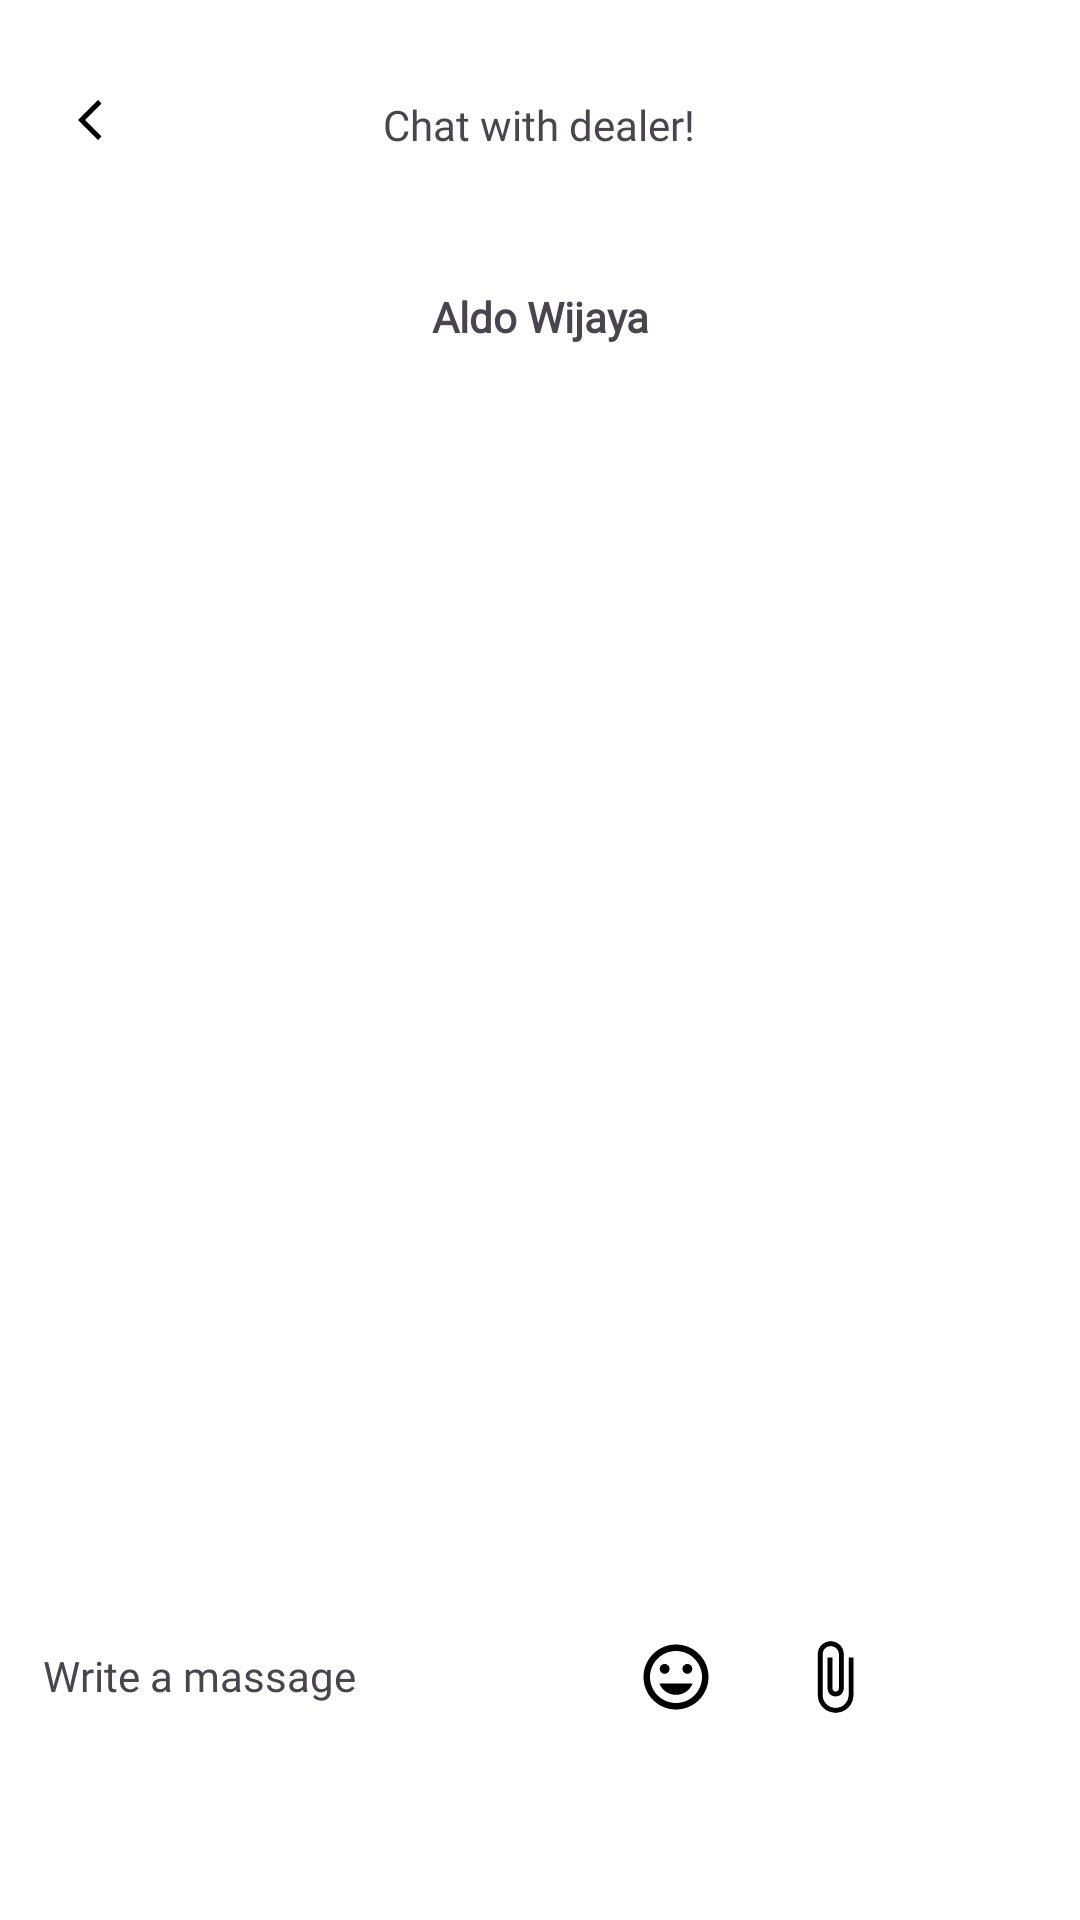

Icon click points for this 1080*1920 phone screenshot, format (x,y):
back: (90,120)
emoticon: (676,1677)
file: (835,1677)
